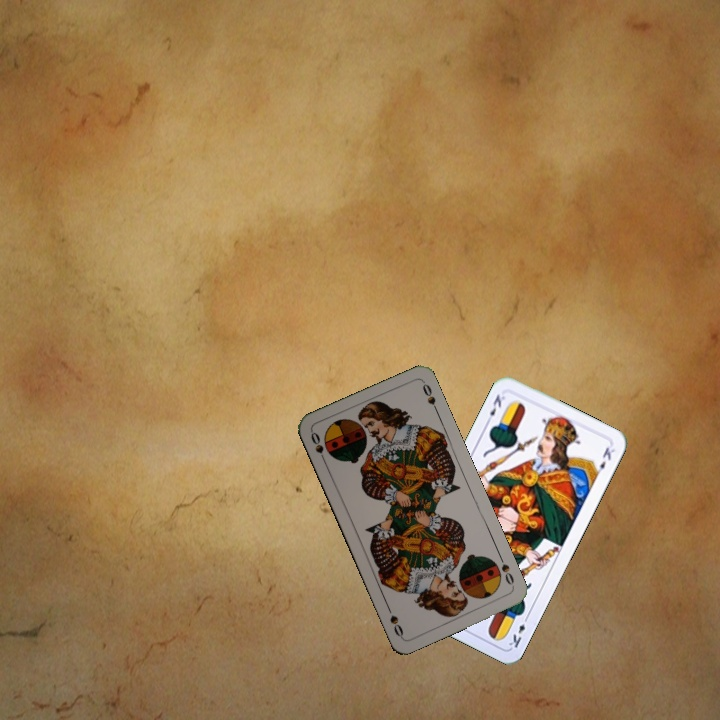EK: (505, 612, 531, 651), (482, 390, 508, 426)
SO: (307, 428, 329, 467), (495, 551, 517, 590)
